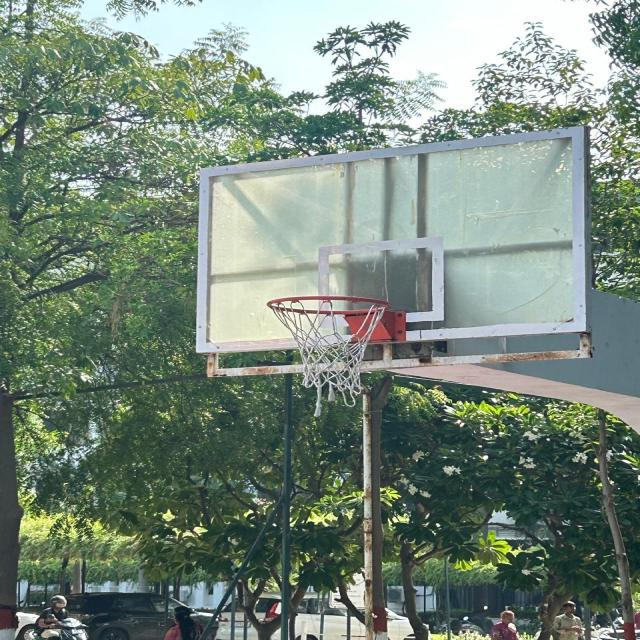hoop: (260, 291, 428, 425)
